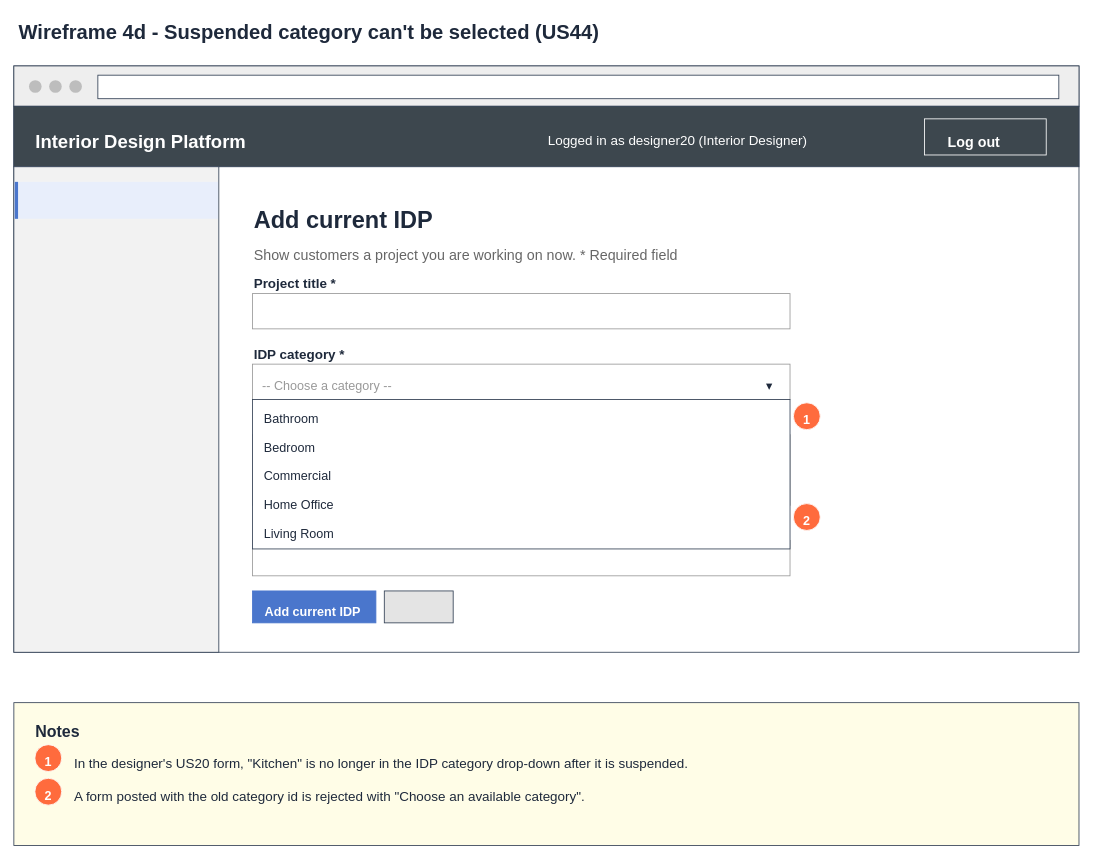
Image size: 1093x859. Some labels were removed from this diagram. Each missing label, with the centre of its shape:
"Cancel" goes at (x=418, y=606).
"Dashboard" goes at (x=116, y=199).
"localhost:5000/designer/idps/add" goes at (x=578, y=86).
